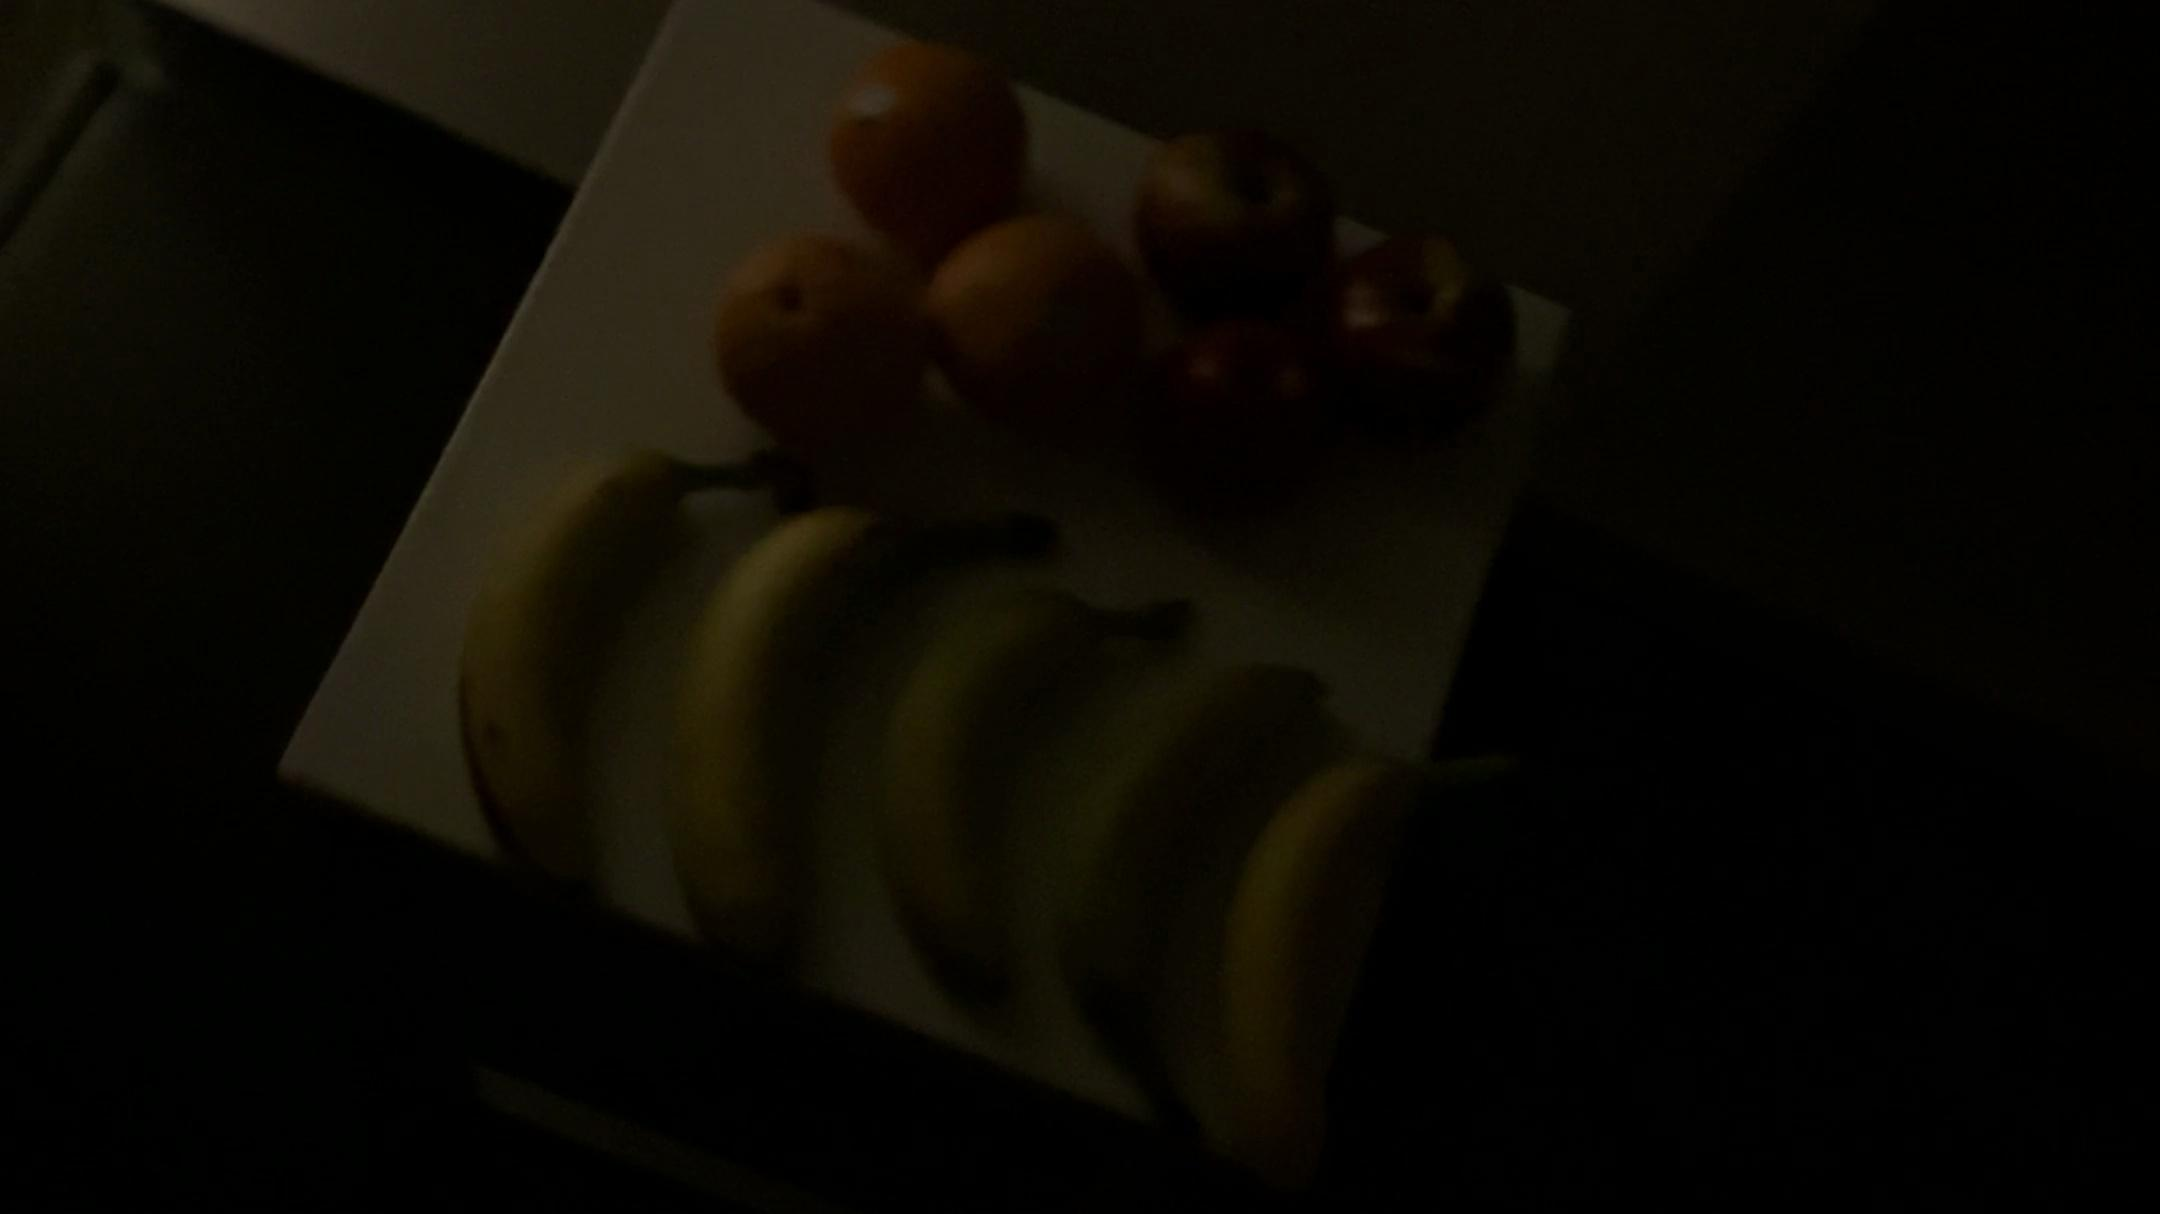apple: (1303, 203, 1512, 424), (1133, 289, 1325, 514), (1119, 99, 1323, 309)
banana: (441, 419, 786, 944), (889, 531, 1178, 1052), (1059, 631, 1337, 1138), (665, 459, 900, 1003), (1215, 732, 1412, 1140)
orange: (915, 205, 1111, 419), (708, 227, 898, 444), (825, 33, 1025, 236)
